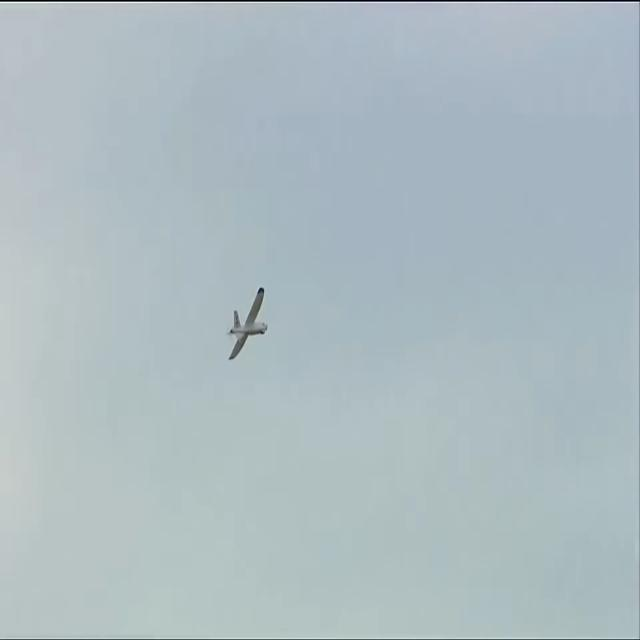iha: (229, 317, 267, 330)
